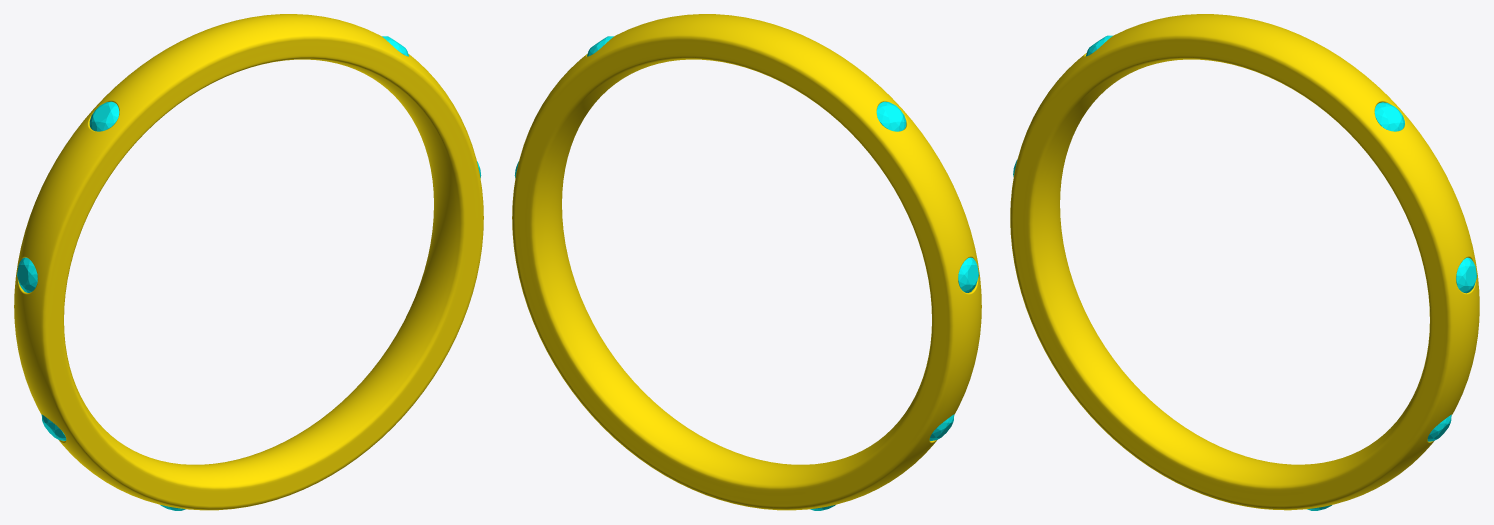
File: 8-STONES.glb
3 views of the same model, side by side, from view 1: azimuth 30°, elevation 25°; view 2: azimuth 150°, elevation 25°; view 3: azimuth 330°, elevation 25° (orthographic).
Visible parts, largest first — view 1: SH-8Diamonds3dm; view 2: SH-8Diamonds3dm; view 3: SH-8Diamonds3dm.
Boxes of the visible parts, x1,y1,x2,y2 form: SH-8Diamonds3dm: (14,14,483,510); SH-8Diamonds3dm: (512,14,981,510); SH-8Diamonds3dm: (1010,14,1479,510).
Bounding box in the file's own units: 16.05 × 16.03 × 1.8.
